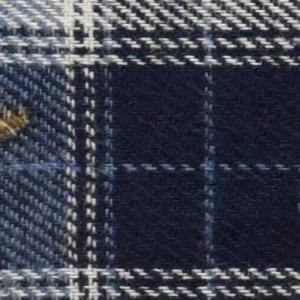Damage: (1, 110, 28, 142)
Oil Stain: (1, 102, 38, 146)
